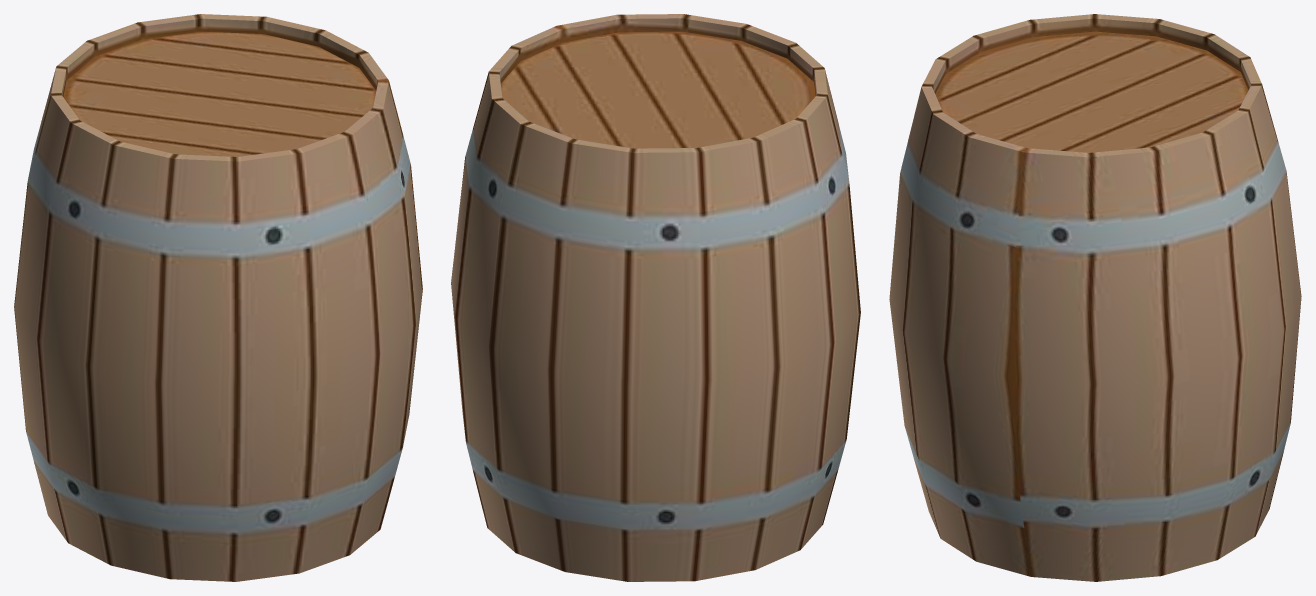
The model's file is barrel.glb.
3 views of the same model, side by side, from view 1: azimuth 30°, elevation 25°; view 2: azimuth 150°, elevation 25°; view 3: azimuth 270°, elevation 25° (orthographic).
Parts seen in each view (by area): view 1: Barrel; view 2: Barrel; view 3: Barrel.
Part boxes in pixels (<box>): Barrel: <box>14,14,422,581</box>; Barrel: <box>451,14,860,581</box>; Barrel: <box>889,14,1301,581</box>.
Bounding box in the file's own units: 0.1498 × 0.172 × 0.1498.
1 material, 1 textured.
